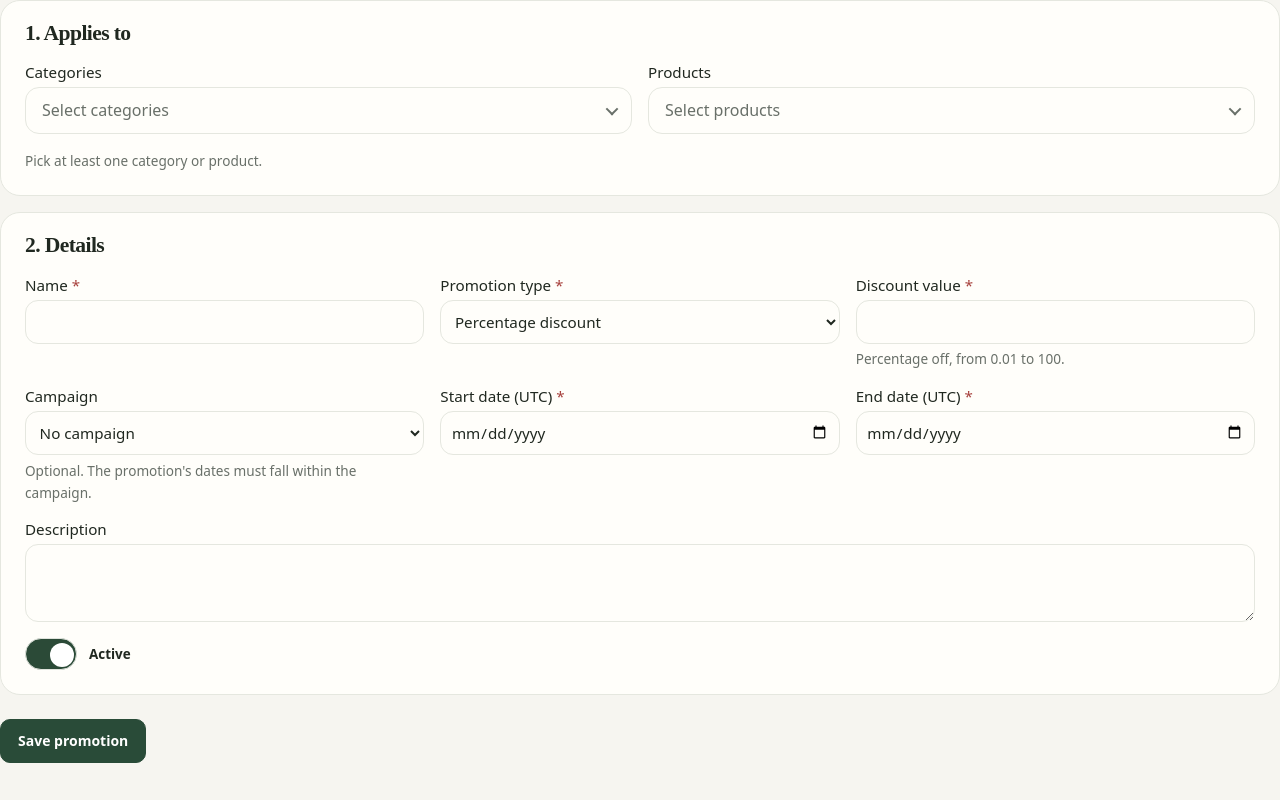
Scenario: PromotionForm › shows client-side validation errors and does not submit
Click the button "Save promotion" at (73, 741), box [0,719,146,763]
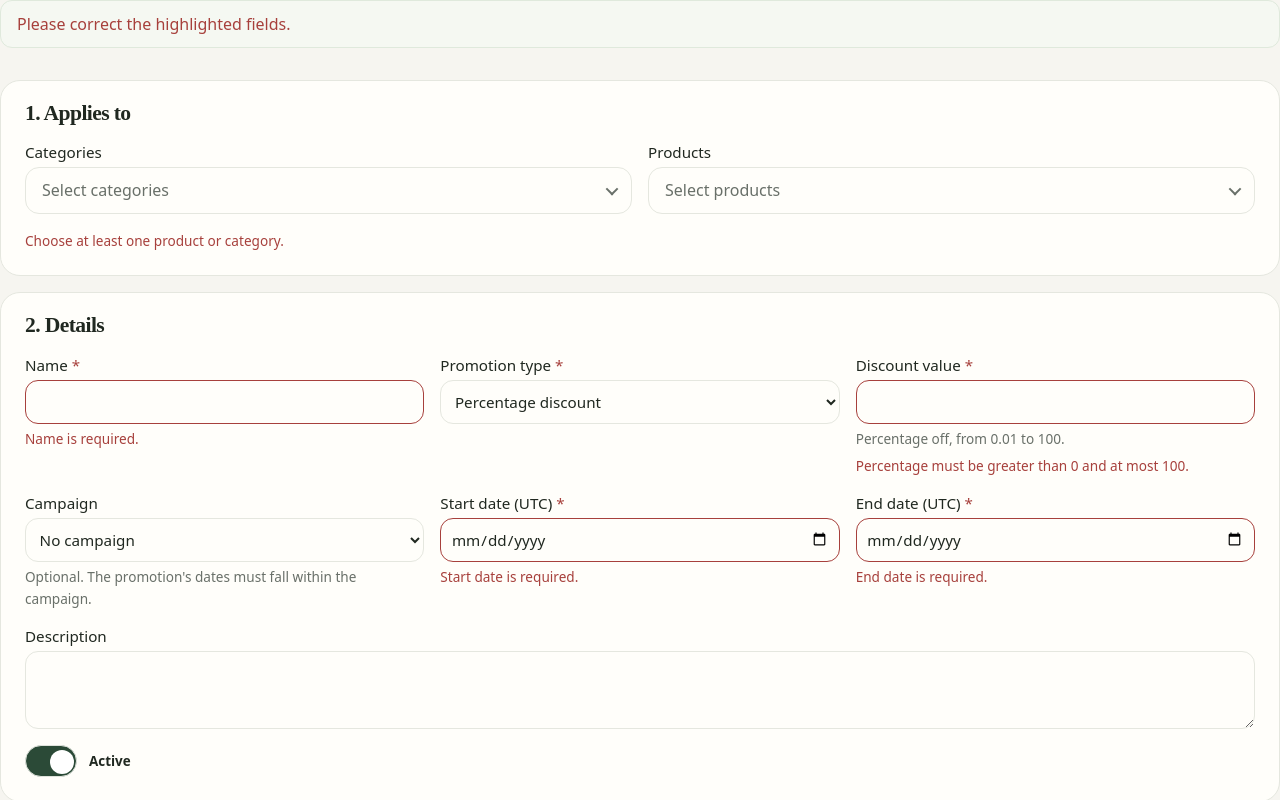
Expected: the text "Name is required." is shown, [25,430,139,448]
Expected: the text "Start date is required." is shown, [440,567,578,586]
Expected: the text "Choose at least one product or category." is shown, [25,231,284,250]
